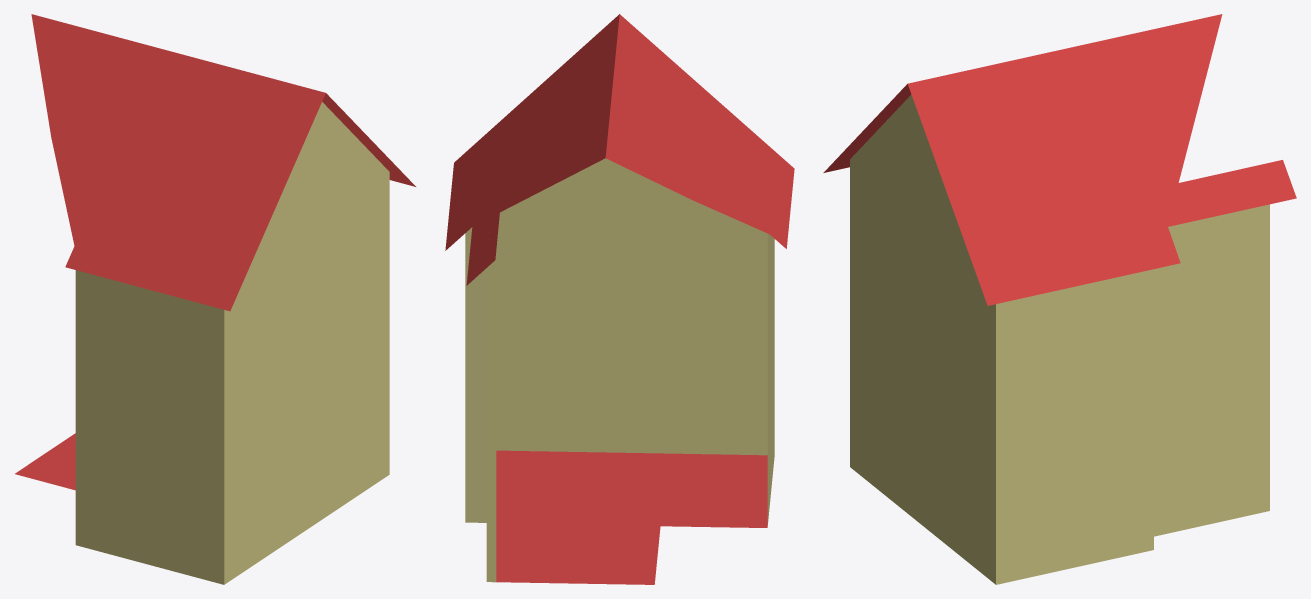
3 renders of one model, left to right at view 1: azimuth 30°, elevation 25°; view 2: azimuth 150°, elevation 25°; view 3: azimuth 270°, elevation 25°, orthographic. The views are drawn at different scales.
Bounding box in the file's own units: 10.21 × 11.9 × 12.42.
